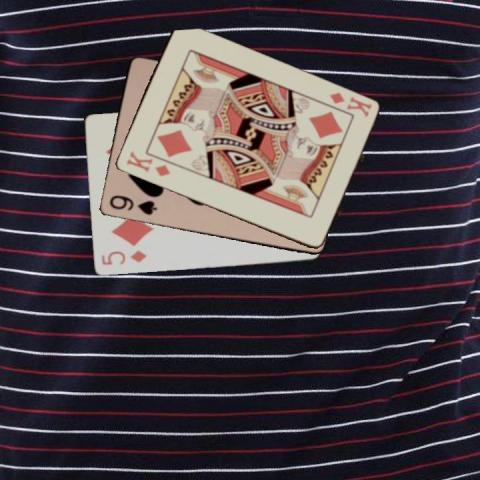5d: (98, 247, 147, 267)
9s: (106, 192, 158, 217)
Kd: (321, 89, 373, 119), (123, 148, 171, 178)
